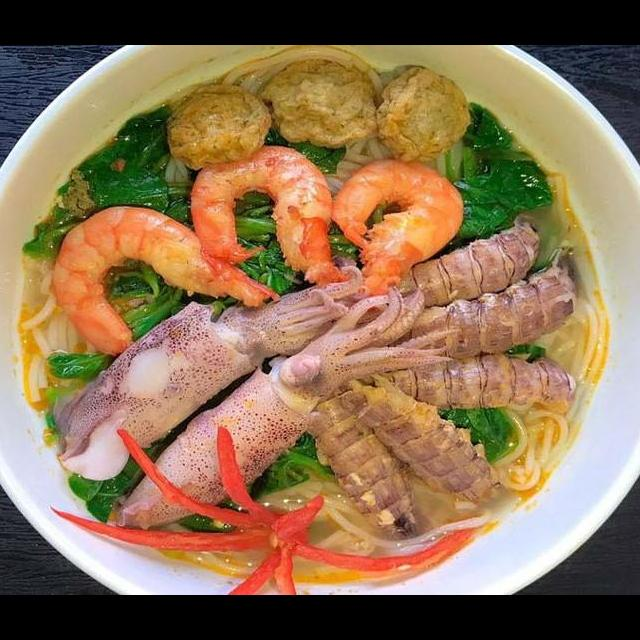bun: (247, 477, 498, 563), (10, 262, 102, 410), (488, 393, 572, 498), (315, 132, 400, 203)
bun hai san: (0, 84, 640, 595)
muc: (109, 279, 464, 534), (48, 254, 373, 484)
tom: (46, 200, 285, 361), (186, 141, 353, 294), (327, 154, 468, 315)
tom tit: (371, 238, 583, 368), (340, 208, 550, 331), (334, 368, 509, 508), (297, 387, 430, 542), (364, 348, 587, 421)
